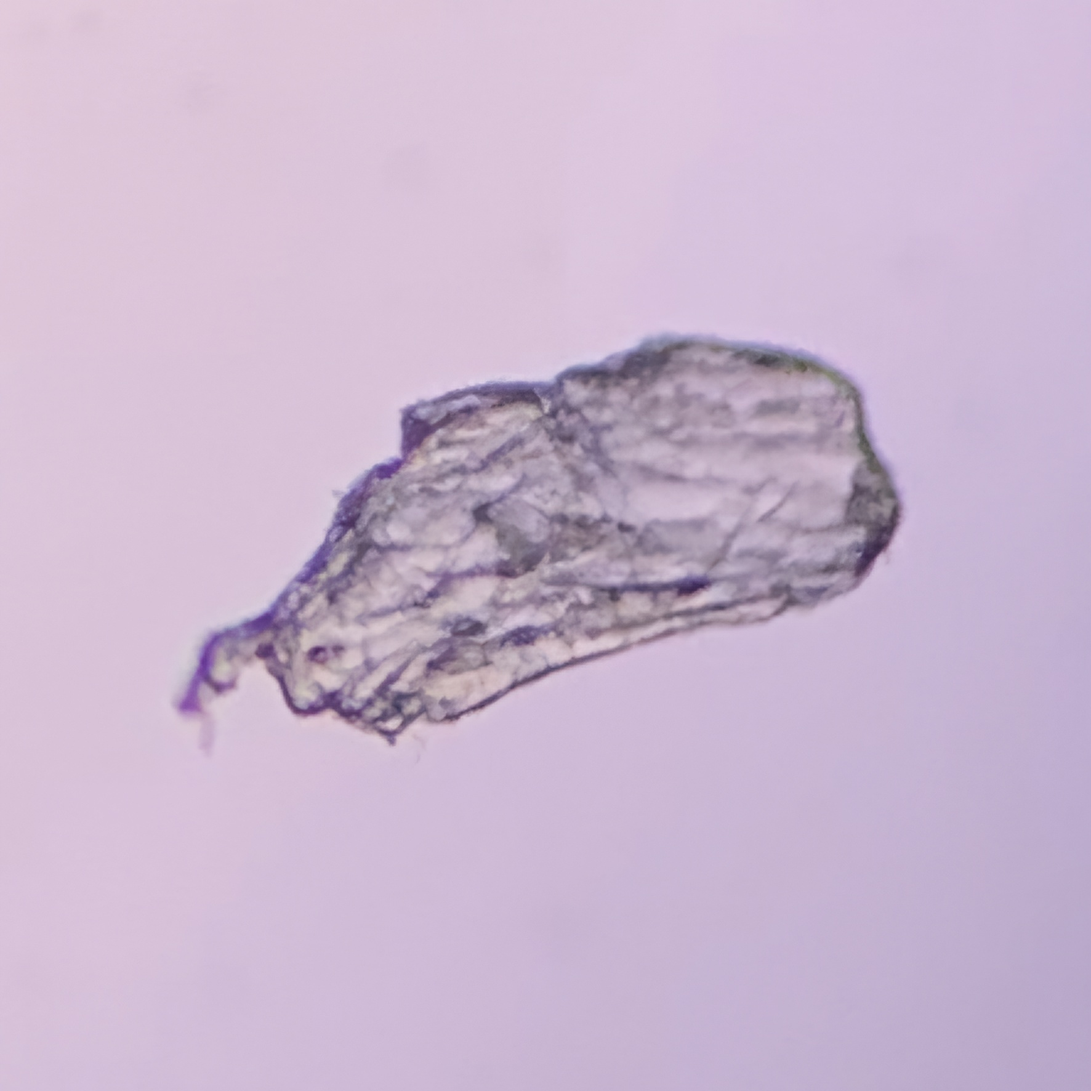microplastic: (172, 332, 937, 810)
